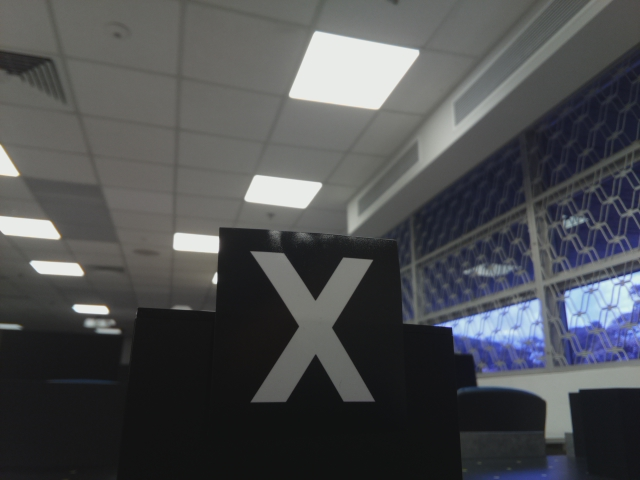x: (244, 247, 383, 414)
